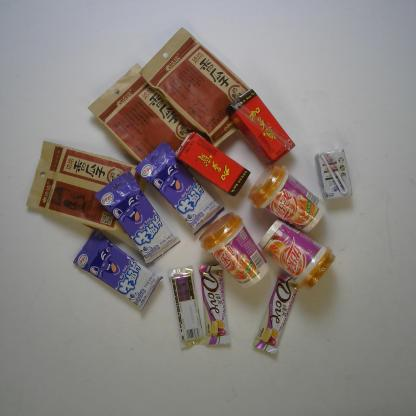Candy: (134, 140, 225, 236), (93, 170, 180, 265), (72, 229, 164, 312)
Chocolate: (252, 273, 298, 355), (167, 264, 206, 350), (197, 264, 233, 346)
Dried Food: (138, 26, 252, 148), (26, 139, 148, 238), (87, 62, 197, 163)
Drink: (225, 88, 296, 165), (174, 130, 251, 197)
Instant Drink: (256, 219, 336, 291), (198, 211, 270, 289), (246, 163, 326, 233)
Milk: (314, 148, 354, 202)
